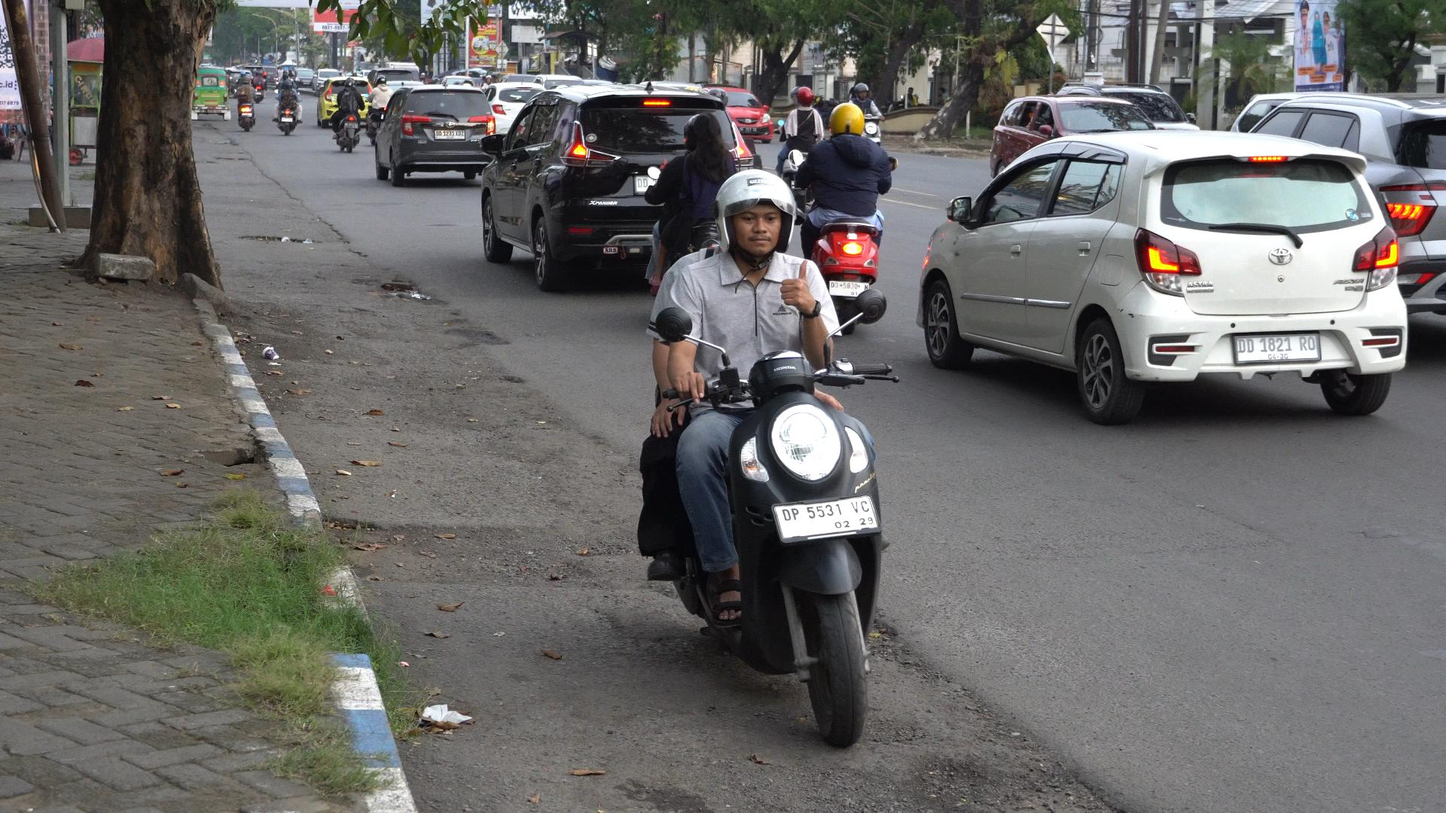number-plate: (769, 493, 882, 542)
